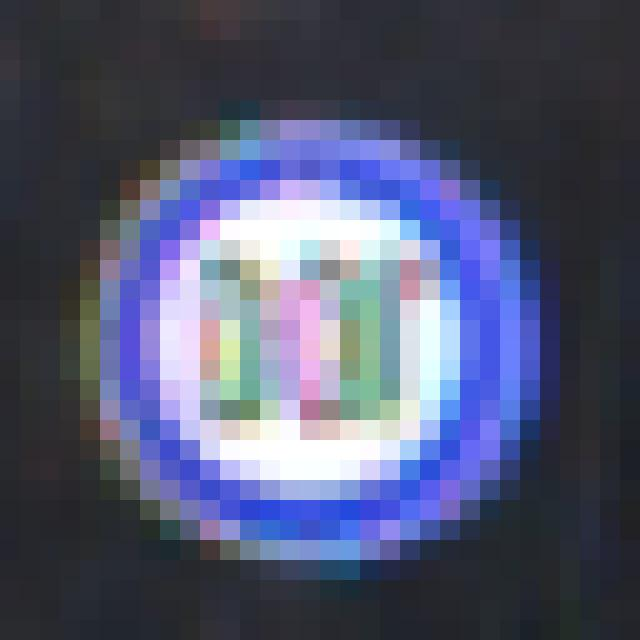SPEED LIMIT 100: (85, 130, 538, 558)
